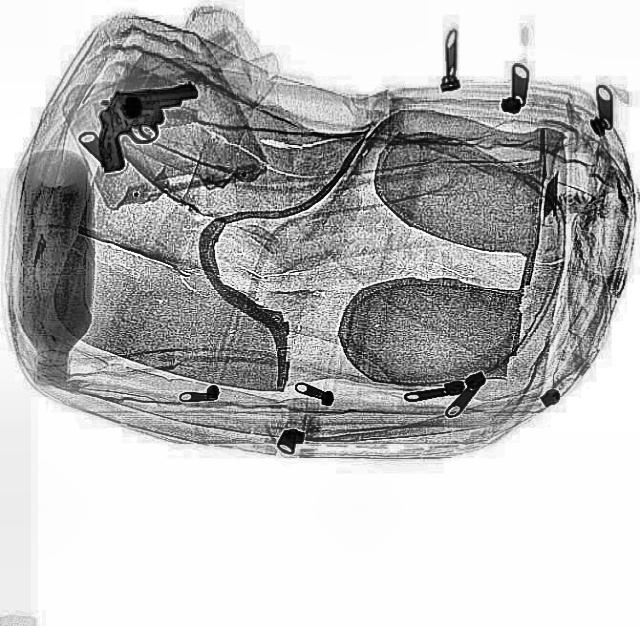Gun: (89, 74, 210, 176)
